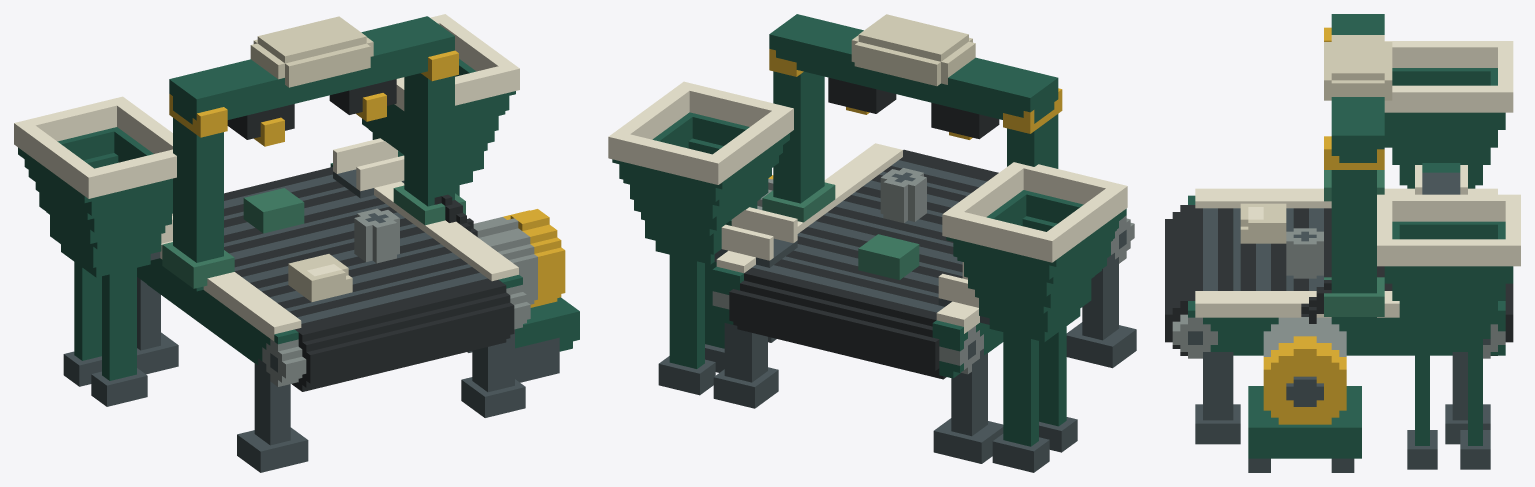
The model's file is sorting_machine.glb.
The picture shows the model from 3 angles, left to right: view 1: azimuth 30°, elevation 25°; view 2: azimuth 150°, elevation 25°; view 3: azimuth 270°, elevation 25°; orthographic projection. The views are drawn at different scales.
Visible parts, largest first — view 1: sorting_machine; view 2: sorting_machine; view 3: sorting_machine.
Part boxes in pixels (<box>): sorting_machine: <box>14,14,579,472</box>; sorting_machine: <box>608,14,1136,472</box>; sorting_machine: <box>1165,14,1520,472</box>.
Size of the model in its own units: 5.76 by 4.32 by 4.23.
